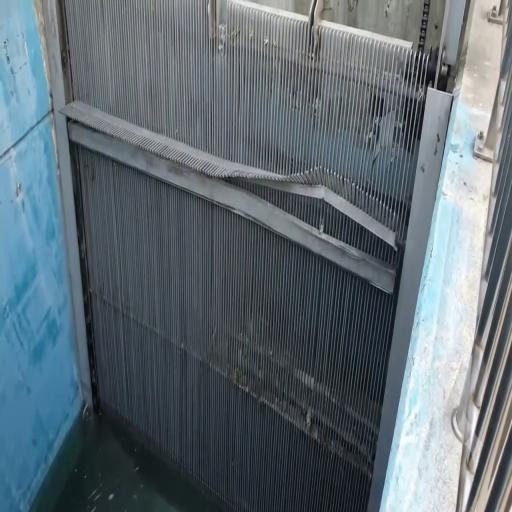rake_broken: (172, 150, 405, 258)
